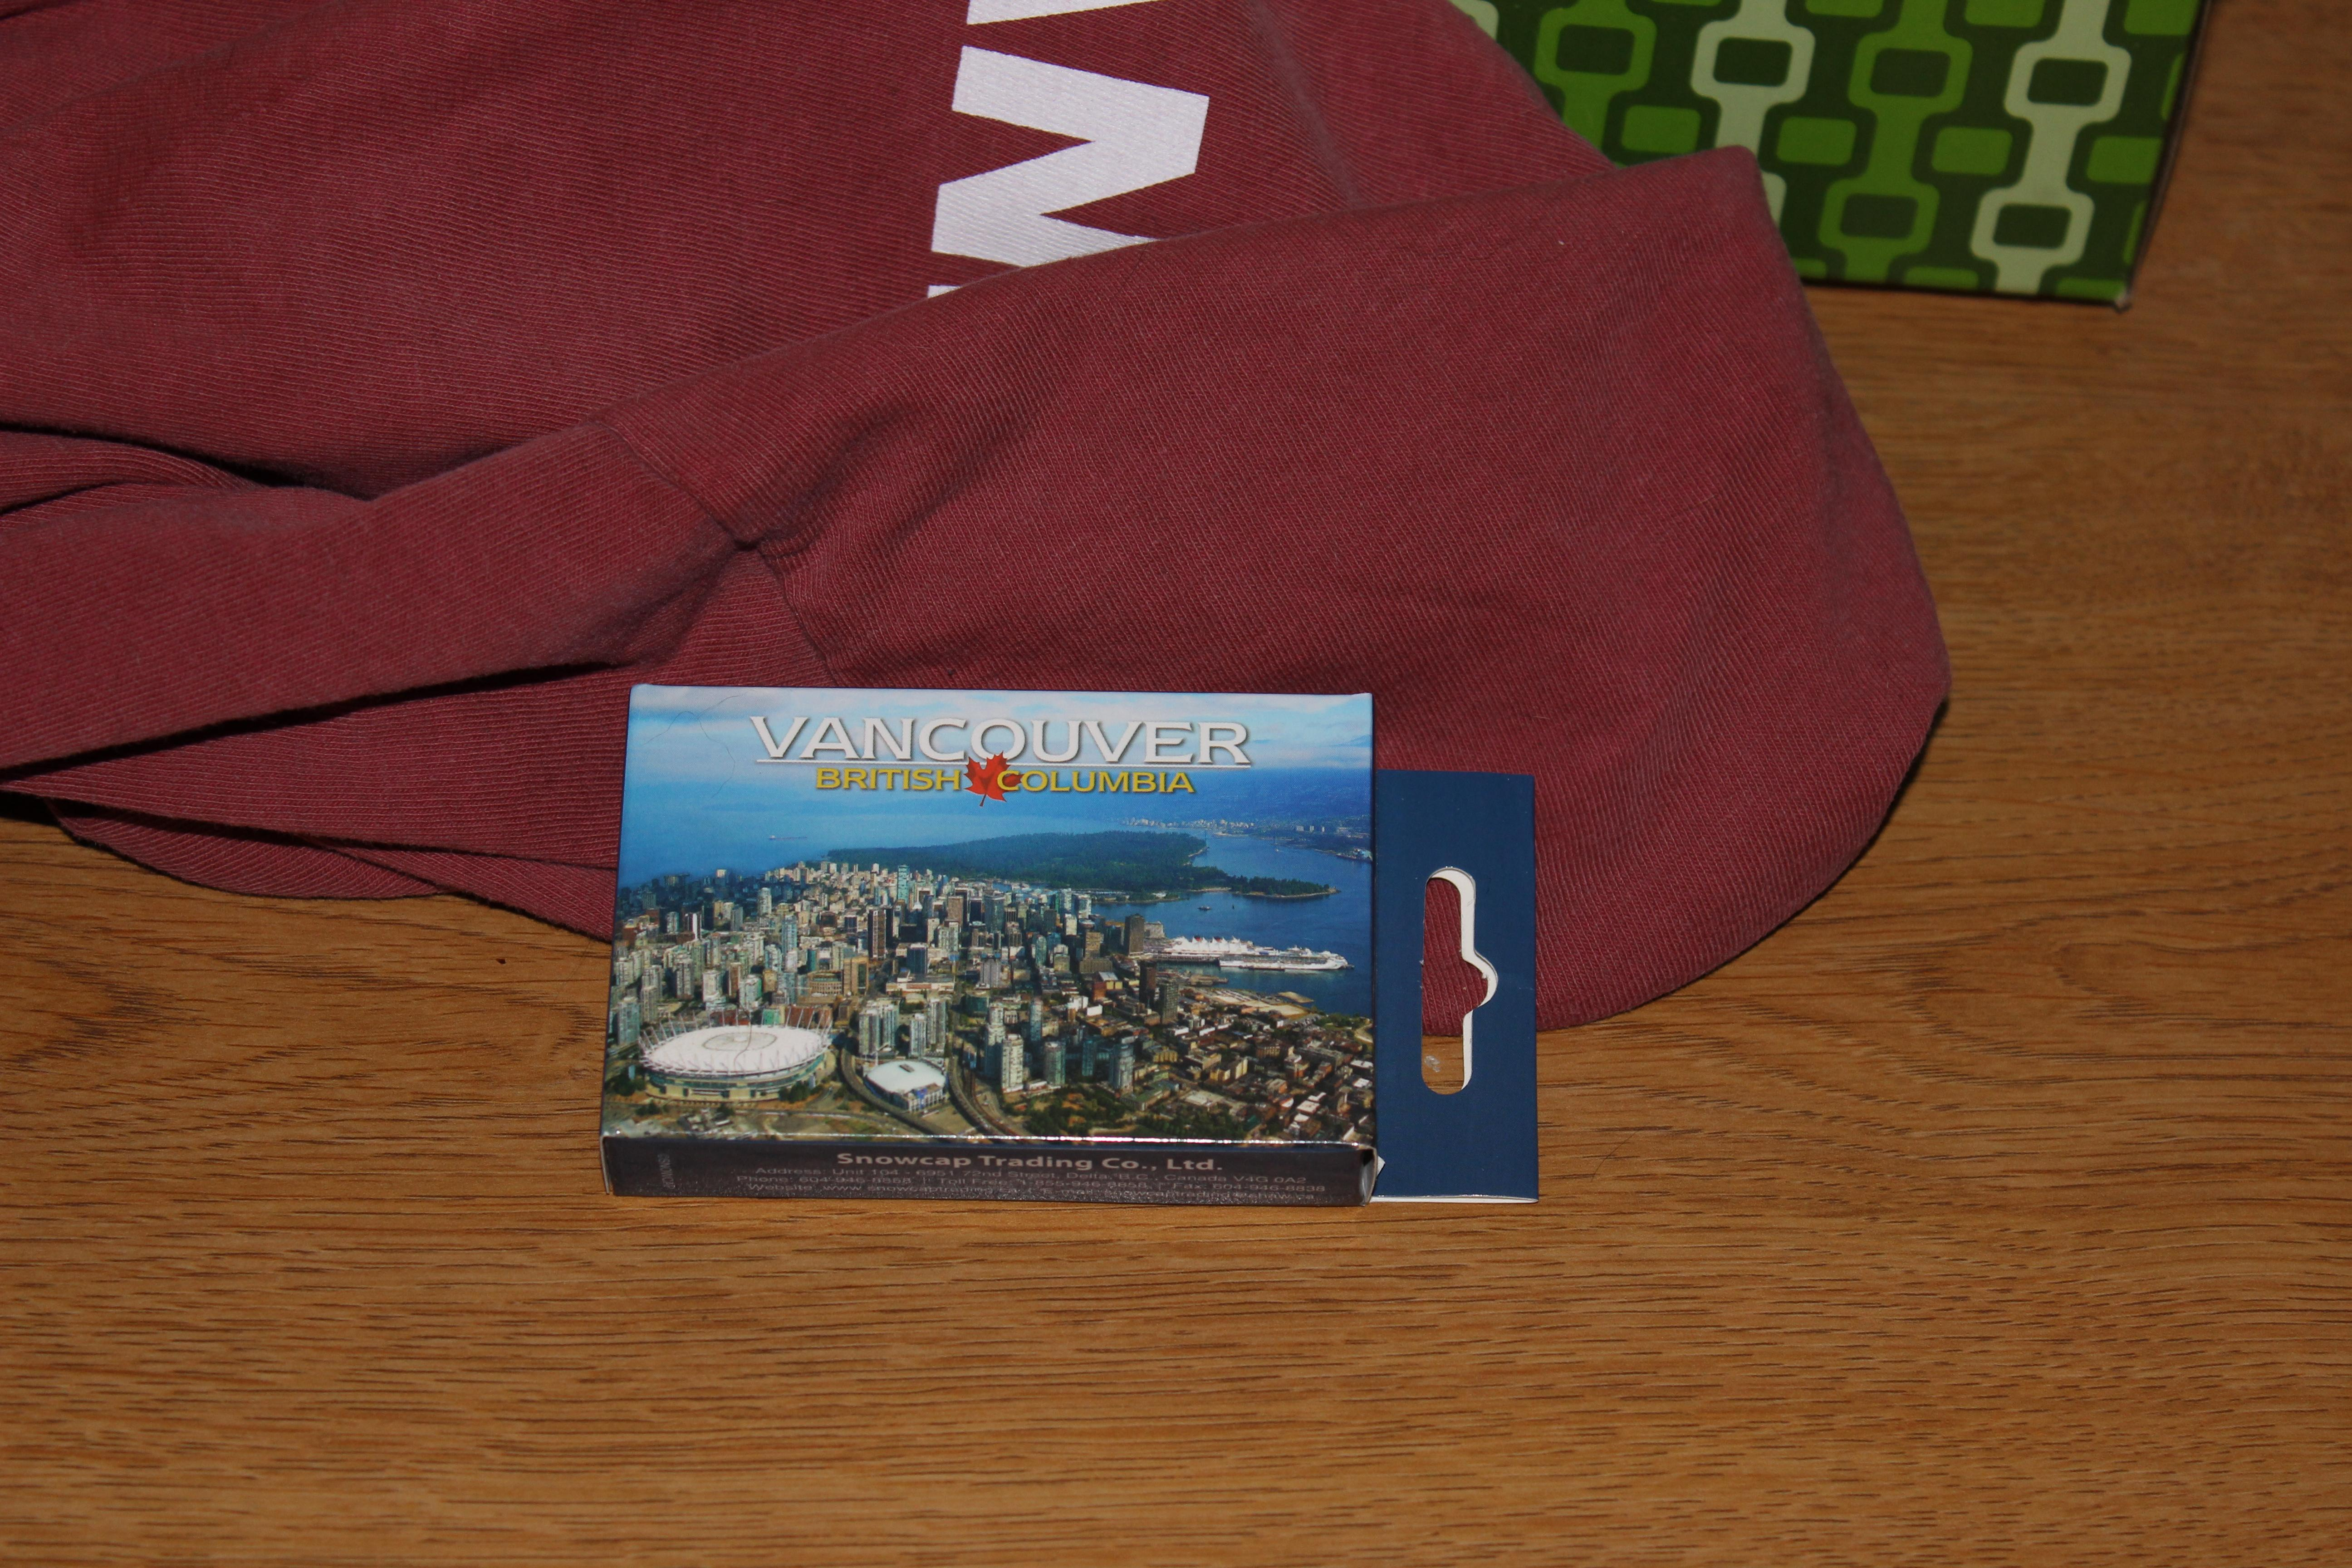vancouverCards: (546, 655, 1600, 1242)
